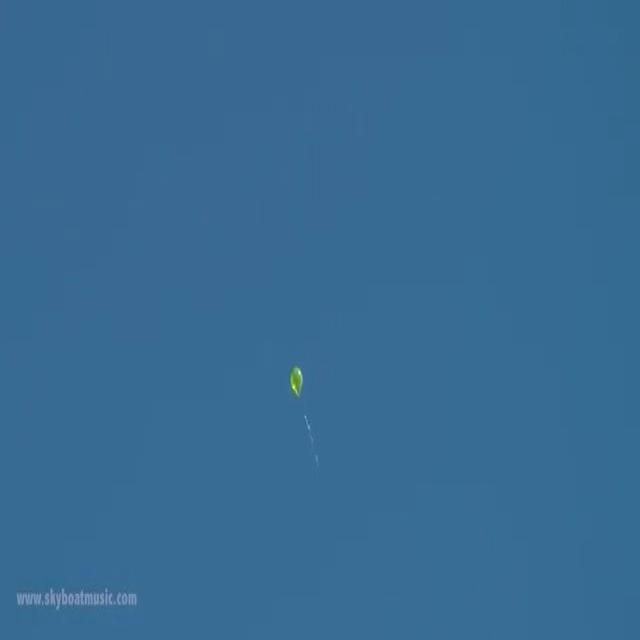balloon: (291, 367, 303, 397)
